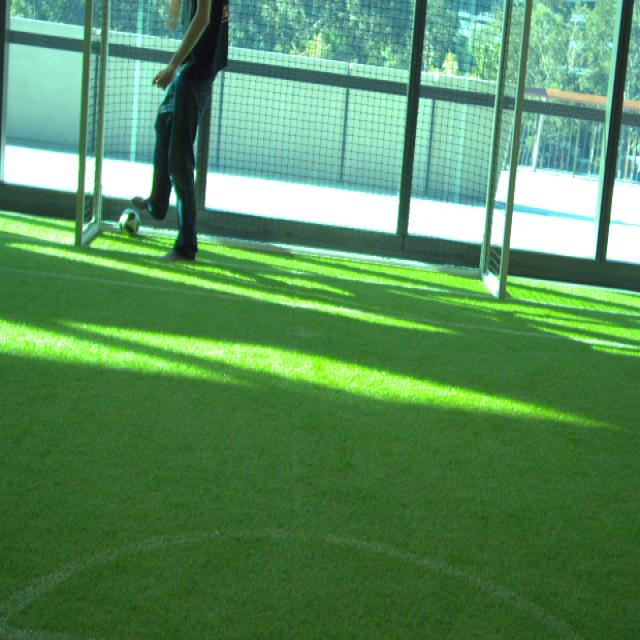ball: (120, 208, 140, 237)
goalpost: (496, 1, 534, 299), (74, 1, 93, 248)
